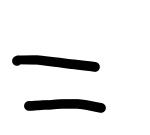eqv: (9, 50, 109, 115)
